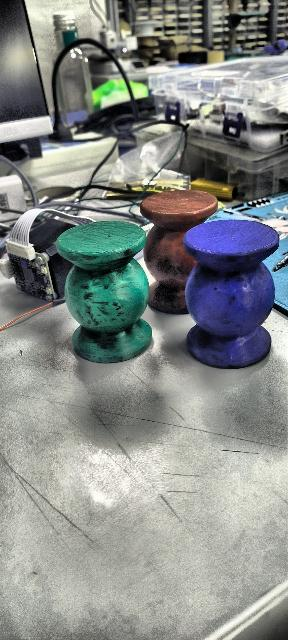blue: (183, 219, 279, 369)
green: (53, 224, 157, 380)
red: (135, 184, 209, 320)
